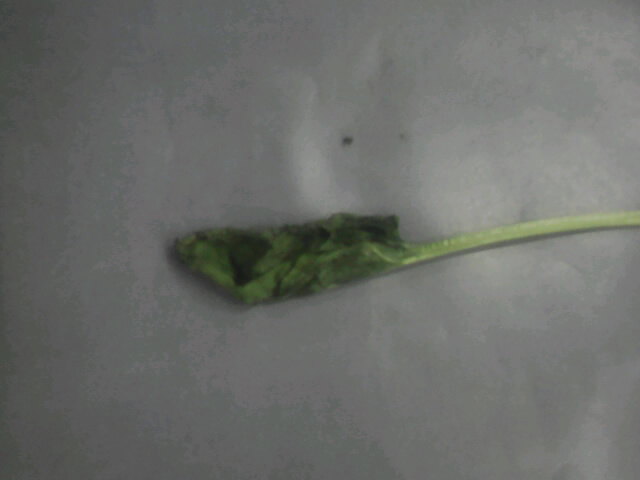yellow: (74, 169, 585, 362)
